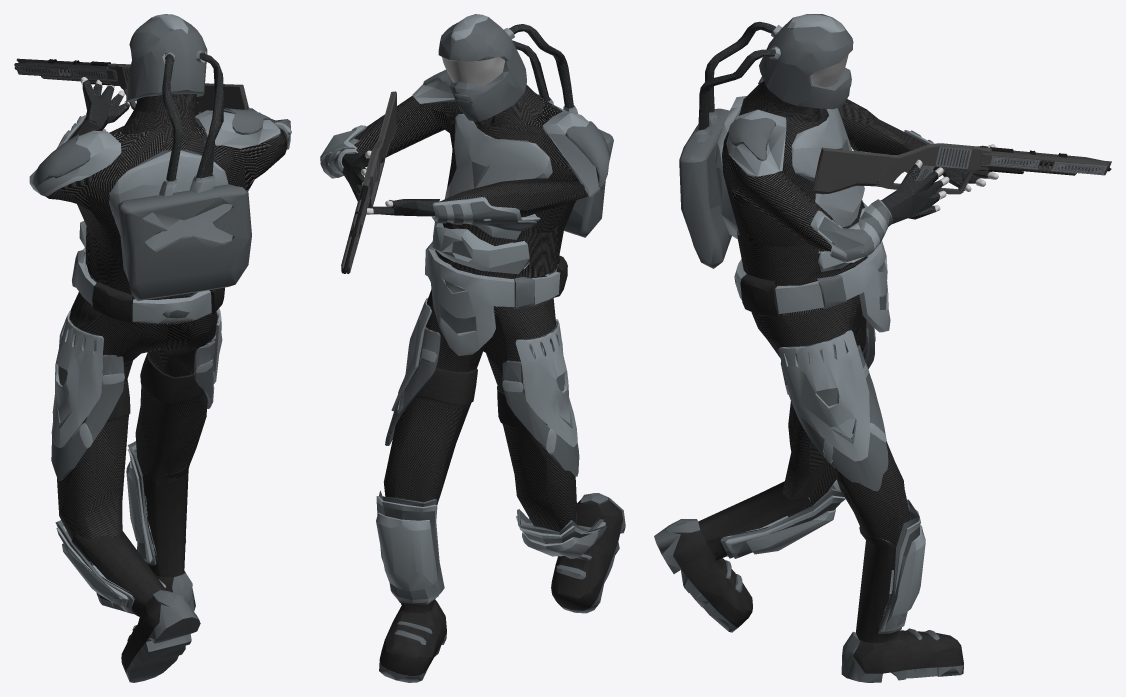
The model's file is AndarEscopeta.0018.obj.
3 views of the same model, side by side, from view 1: azimuth 30°, elevation 25°; view 2: azimuth 150°, elevation 25°; view 3: azimuth 270°, elevation 25° (orthographic). The views are drawn at different scales.
Visible parts, largest first — view 1: personaje:extrudedSurface2 polySurface142, personaje:PANTALON polySurface142, personaje:bota1 polySurface142, personaje:CAMISETABUENA polySurface142, personaje:pPipe4 polySurface142, personaje:cosoarmdaurapierna1 polySurface142, personaje:pCube4 polySurface142, personaje:cinturon polySurface142, escopeta:Cylinder001 polySurface142, personaje:armadbota1 polySurface142, personaje:polySurface6 polySurface142, personaje:HOMBRO2 polySurface142 (+3 smaller); view 2: personaje:PANTALON polySurface142, personaje:pPipe4 polySurface142, personaje:CAMISETABUENA polySurface142, personaje:bota1 polySurface142, personaje:extrudedSurface2 polySurface142, personaje:cinturon polySurface142, personaje:pCube4 polySurface142, personaje:armadbota1 polySurface142, personaje:cosoarmdaurapierna1 polySurface142, escopeta:Cylinder001 polySurface142, personaje:polySurface6 polySurface142, personaje:polySurface2 polySurface142 (+6 smaller); view 3: personaje:bota1 polySurface142, personaje:CAMISETABUENA polySurface142, personaje:extrudedSurface2 polySurface142, personaje:pPipe4 polySurface142, personaje:pCube4 polySurface142, personaje:PANTALON polySurface142, escopeta:Cylinder001 polySurface142, personaje:cinturon polySurface142, personaje:armadbota1 polySurface142, personaje:cosoarmadurapierna2 polySurface142, personaje:hombro1 polySurface142, personaje:partearmdBRAZO2 polySurface142 (+1 smaller).
Part boxes in pixels (x1,y1,x2,y2): personaje:extrudedSurface2 polySurface142: (117,14,251,300); personaje:PANTALON polySurface142: (57,271,217,565); personaje:bota1 polySurface142: (72,465,200,682); personaje:CAMISETABUENA polySurface142: (44,94,286,324); personaje:pPipe4 polySurface142: (29,80,290,248); personaje:cosoarmdaurapierna1 polySurface142: (51,310,124,448); personaje:pCube4 polySurface142: (51,292,222,613); personaje:cinturon polySurface142: (72,248,224,323); escopeta:Cylinder001 polySurface142: (14,58,249,113); personaje:armadbota1 polySurface142: (56,445,166,612); personaje:polySurface6 polySurface142: (107,352,204,421); personaje:HOMBRO2 polySurface142: (32,134,90,186); personaje:PANTALON polySurface142: (383,266,576,538); personaje:pPipe4 polySurface142: (320,79,603,274); personaje:CAMISETABUENA polySurface142: (338,59,599,307); personaje:bota1 polySurface142: (379,493,625,682); personaje:extrudedSurface2 polySurface142: (438,14,613,237); personaje:cinturon polySurface142: (425,242,567,355); personaje:pCube4 polySurface142: (376,298,606,604); personaje:armadbota1 polySurface142: (376,496,605,602); personaje:cosoarmdaurapierna1 polySurface142: (502,319,577,454); escopeta:Cylinder001 polySurface142: (341,91,397,273); personaje:polySurface6 polySurface142: (416,367,527,430); personaje:polySurface2 polySurface142: (433,201,537,231); personaje:bota1 polySurface142: (654,481,963,682); personaje:CAMISETABUENA polySurface142: (722,80,926,315); personaje:extrudedSurface2 polySurface142: (679,14,853,268); personaje:pPipe4 polySurface142: (714,77,991,271); personaje:pCube4 polySurface142: (720,320,919,633); personaje:PANTALON polySurface142: (751,253,910,569); escopeta:Cylinder001 polySurface142: (813,143,1111,194); personaje:cinturon polySurface142: (734,241,890,332); personaje:armadbota1 polySurface142: (725,479,925,631); personaje:cosoarmadurapierna2 polySurface142: (780,345,888,491); personaje:hombro1 polySurface142: (728,117,775,161); personaje:partearmdBRAZO2 polySurface142: (810,199,892,262).
Size of the model in its own units: 4.24 by 9.53 by 6.03.
